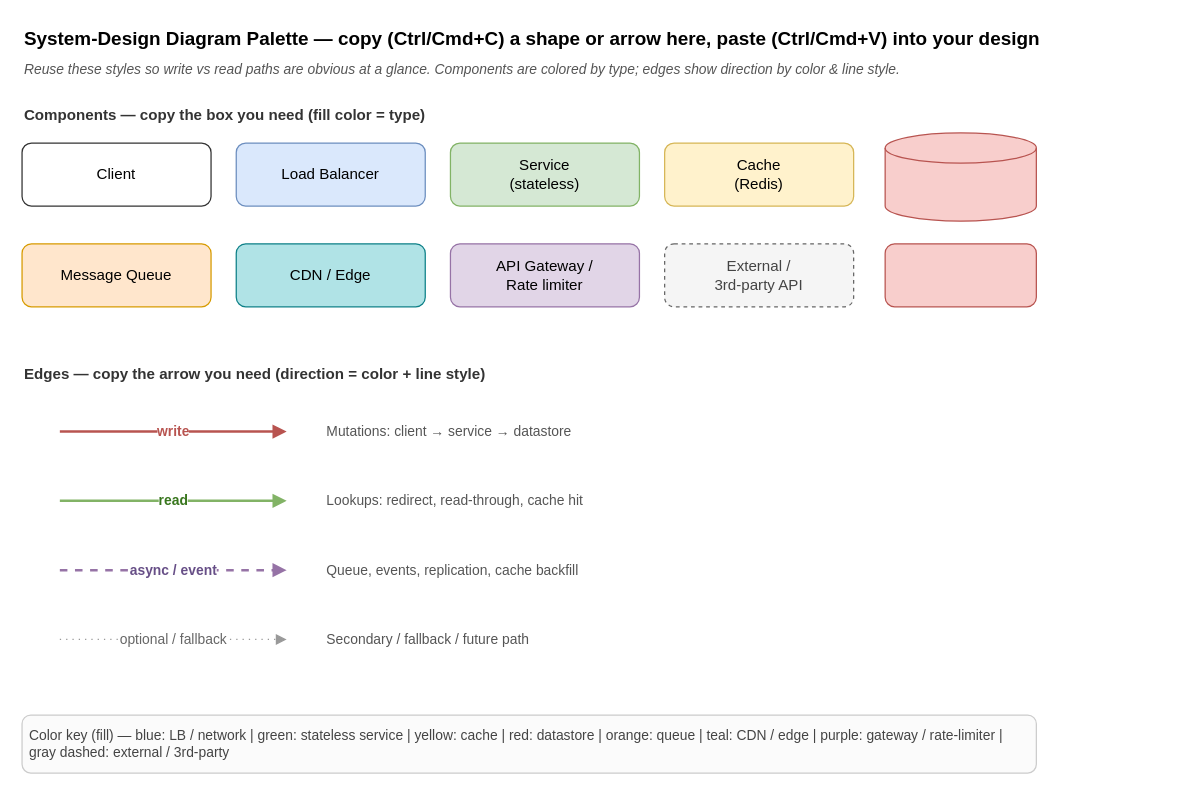
Image size: 1178x795. Some labels were removed from this diagram. Here are the shapes that lost their labels. From the top down, the box of each, then its label:
(884, 132, 1036, 221): Database / Store
(884, 243, 1036, 307): Object / Blob store (S3)
